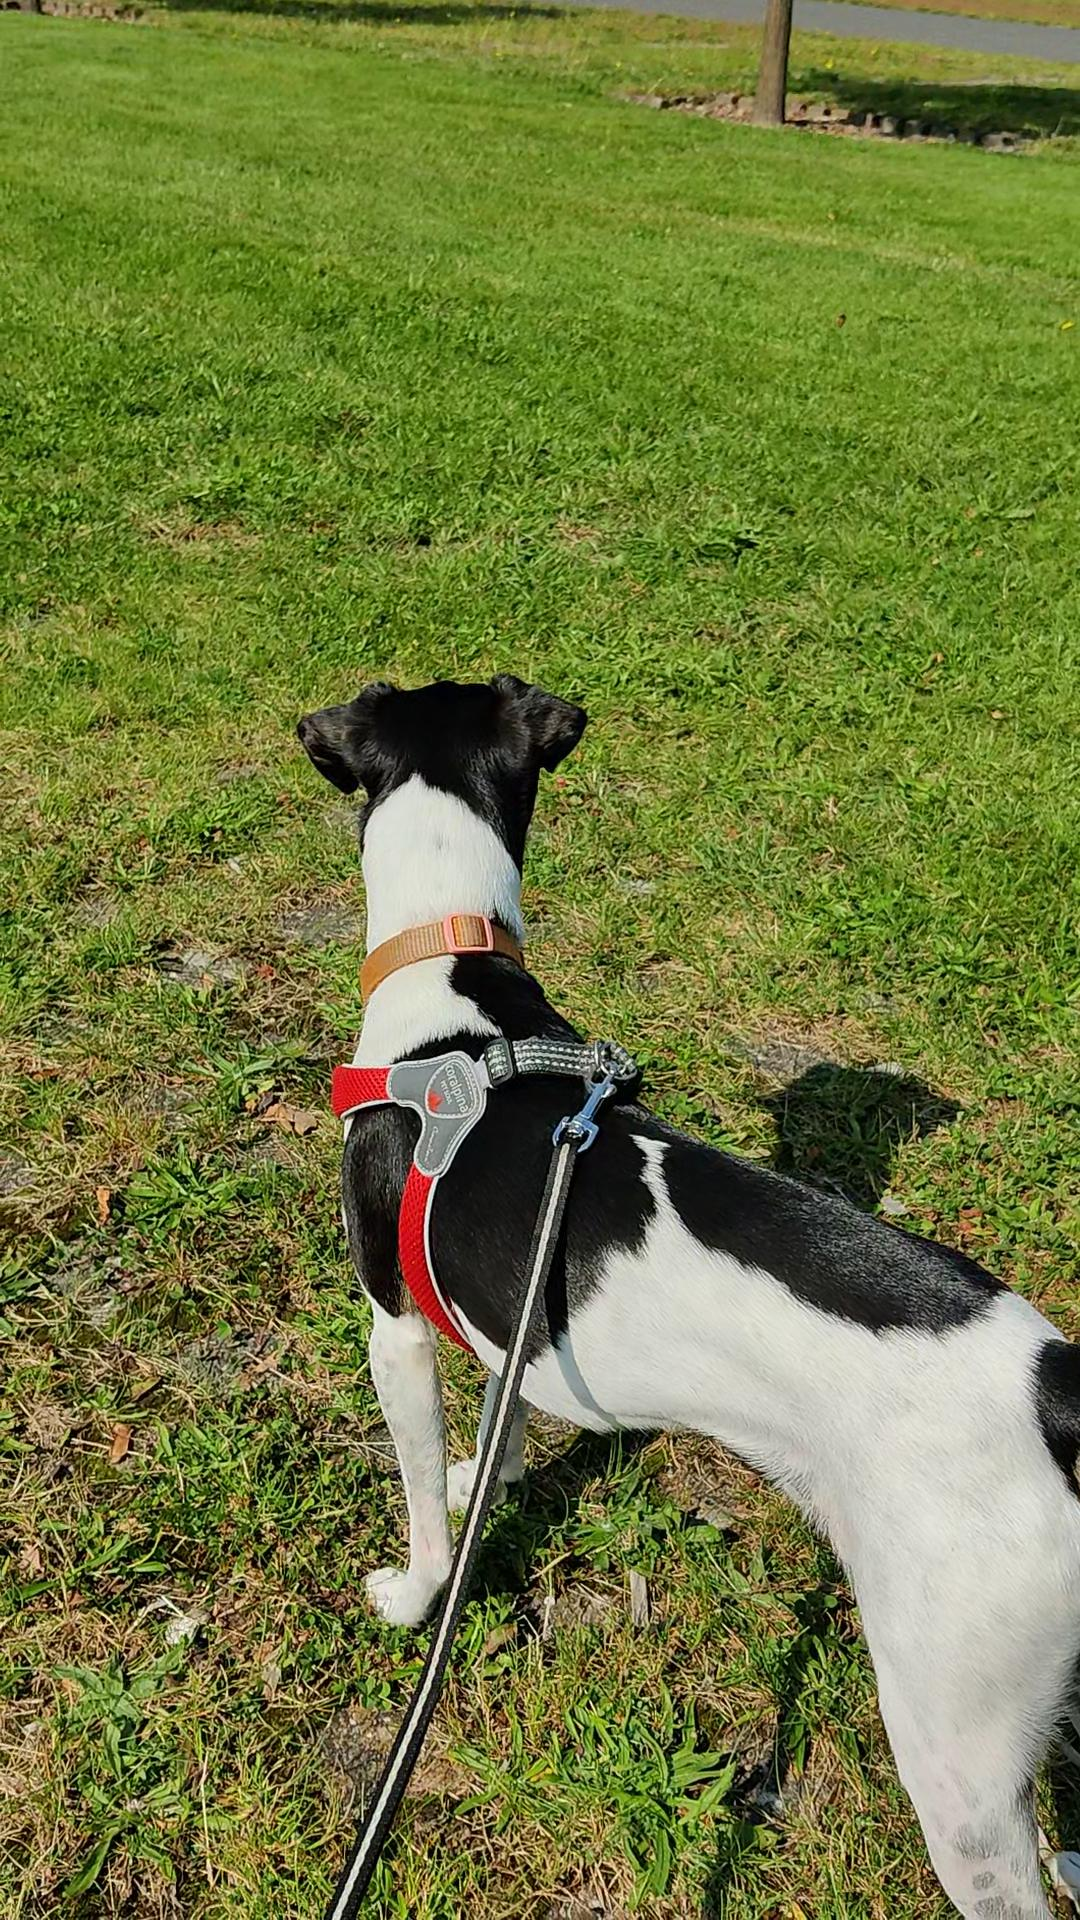Dog: (260, 644, 1079, 1919)
